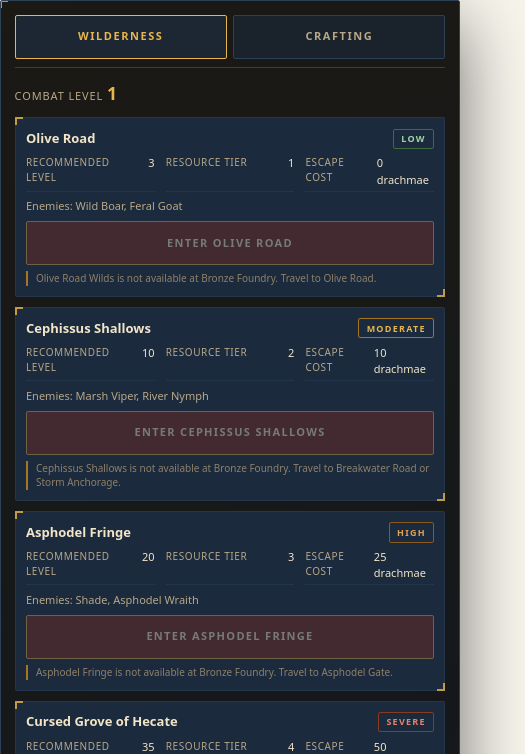
Test case: bank-aware crafting UI integration › disables the bank toggle away from a bank and gives an accessible reason
What coordinates should you click on to do the following:
click the tab "Crafting"
I would click on:
 (339, 37)
Its box is [233,15,445,59].
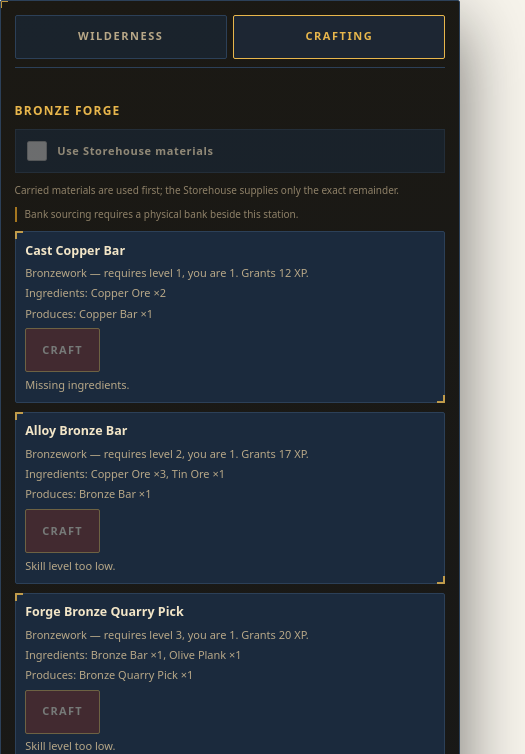
Expected: the checkbox named "Use bank materials" is disabled, [27,141,47,161]
